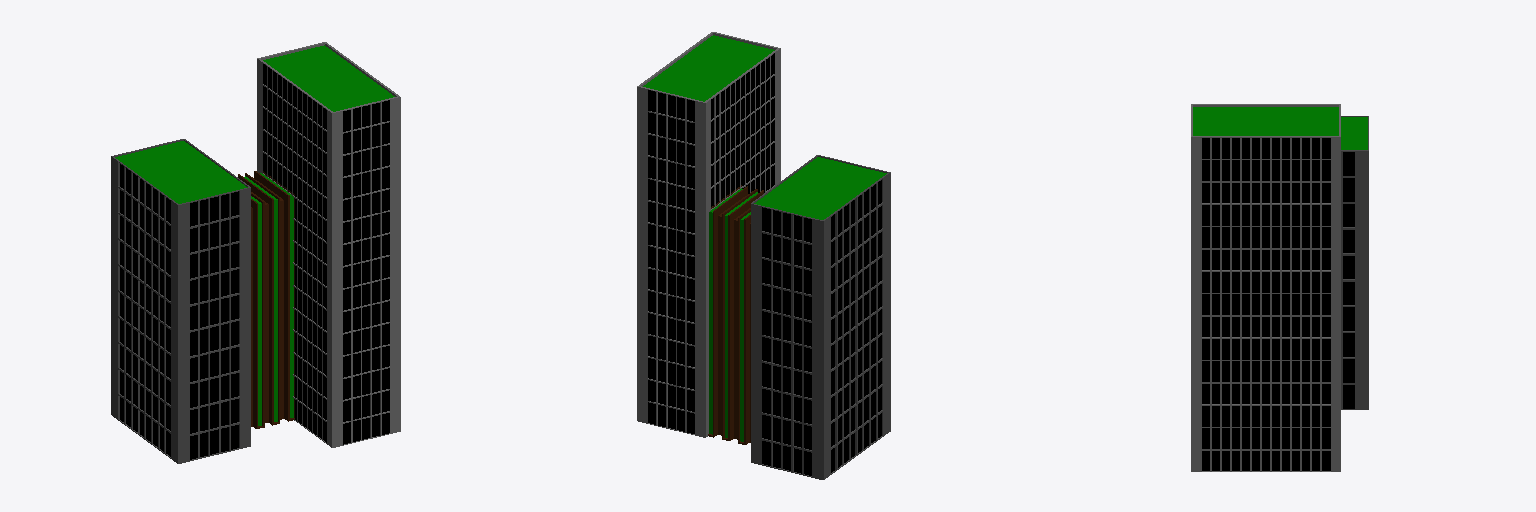
File: Building3.obj
The picture shows the model from 3 angles: view 1: azimuth 30°, elevation 25°; view 2: azimuth 150°, elevation 25°; view 3: azimuth 270°, elevation 25°; orthographic projection.
Visible parts, largest first — view 1: window, Main, Main2, grass, Wood; view 2: window, Main, Main2, grass, Wood; view 3: window, Main2, grass, Main.
Boxes of the visible parts, <box> form: window: <box>120,64,389,459</box>; Main: <box>111,139,250,463</box>; Main2: <box>257,42,400,447</box>; grass: <box>115,45,394,425</box>; Wood: <box>238,171,294,428</box>; window: <box>648,53,881,475</box>; Main: <box>751,155,890,479</box>; Main2: <box>637,32,780,437</box>; grass: <box>643,35,886,441</box>; Wood: <box>708,185,763,444</box>; window: <box>1202,138,1354,470</box>; Main2: <box>1191,104,1340,471</box>; grass: <box>1193,107,1367,149</box>; Main: <box>1341,116,1368,409</box>.
Bounding box in the file's own units: 69.48 × 111 × 53.54.